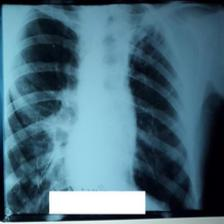tuberculosis: (4, 7, 203, 211)
